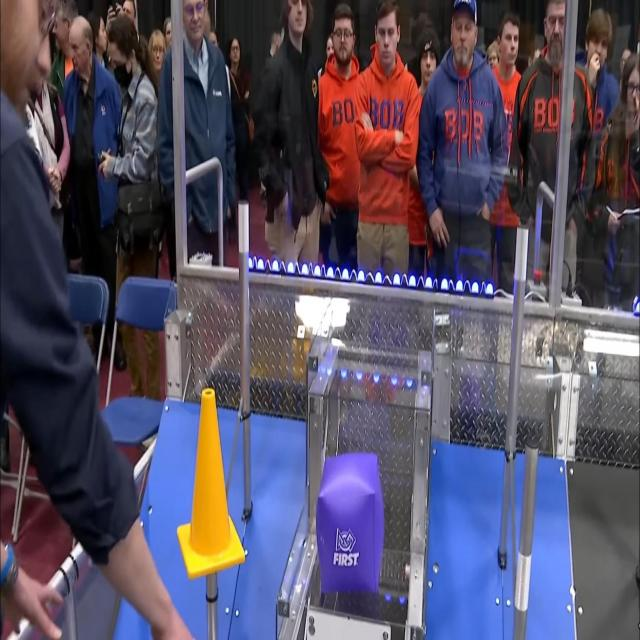frc_cone: (177, 383, 243, 575)
frc_cube: (317, 448, 384, 594)
